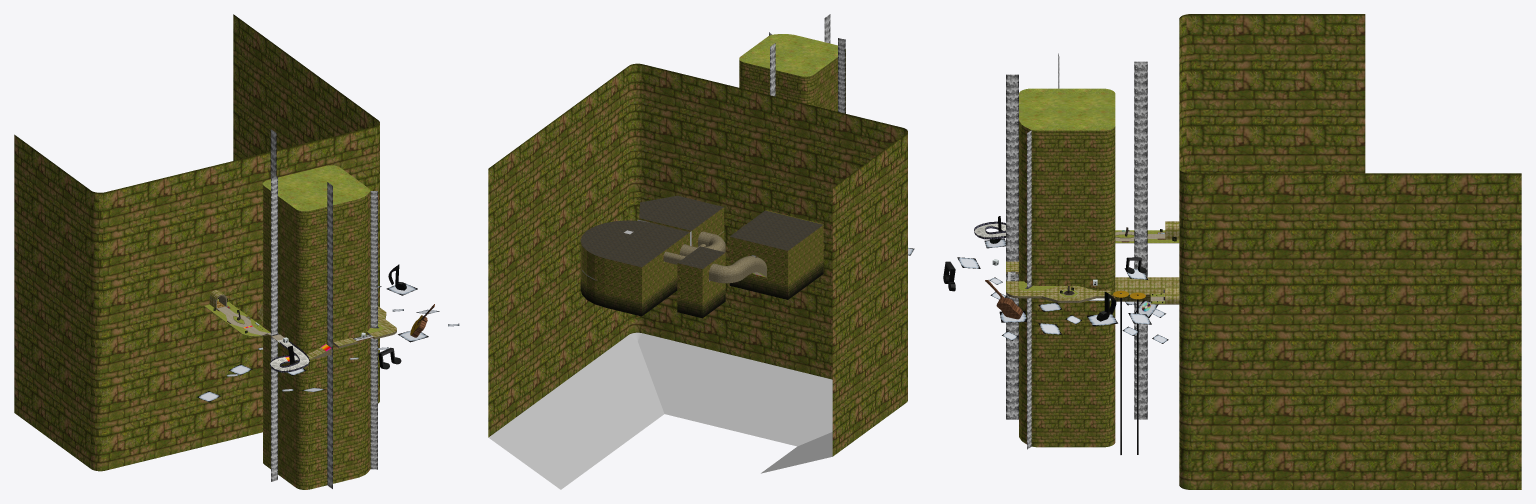
3 views of the same model, side by side, from view 1: azimuth 30°, elevation 25°; view 2: azimuth 150°, elevation 25°; view 3: azimuth 270°, elevation 25° (orthographic). The views are drawn at different scales.
Parts seen in each view (by area): view 1: Melody-SKP--Temple, Melody-SKP--waterfall, Melody-SKP--grass, Melody-SKP--2d_cloud, Melody-SKP--SquareRoad, Melody-SKP--Musicnote; view 2: Melody-SKP--Temple, Melody-SKP--Default_Material, Melody-SKP--Pillar, Melody-SKP--wall-transition, Melody-SKP--grass, Melody-SKP--Stonewall, Melody-SKP--waterfall; view 3: Melody-SKP--Temple, Melody-SKP--waterfall, Melody-SKP--grass, Melody-SKP--SquareRoad, Melody-SKP--2d_cloud, Melody-SKP--Musicnote.
Boxes of the visible parts, bbox=[...] form: Melody-SKP--Temple: bbox=[14, 14, 379, 489]; Melody-SKP--waterfall: bbox=[270, 129, 377, 488]; Melody-SKP--grass: bbox=[204, 165, 383, 336]; Melody-SKP--2d_cloud: bbox=[197, 282, 459, 401]; Melody-SKP--SquareRoad: bbox=[209, 290, 396, 359]; Melody-SKP--Musicnote: bbox=[288, 264, 406, 369]; Melody-SKP--Temple: bbox=[488, 51, 907, 456]; Melody-SKP--Default_Material: bbox=[488, 219, 832, 489]; Melody-SKP--Pillar: bbox=[580, 195, 823, 269]; Melody-SKP--wall-transition: bbox=[580, 261, 823, 318]; Melody-SKP--grass: bbox=[739, 34, 845, 277]; Melody-SKP--Stonewall: bbox=[581, 231, 766, 283]; Melody-SKP--waterfall: bbox=[691, 14, 845, 264]; Melody-SKP--Temple: bbox=[1019, 14, 1521, 489]; Melody-SKP--waterfall: bbox=[1006, 53, 1147, 449]; Melody-SKP--grass: bbox=[1019, 88, 1179, 303]; Melody-SKP--SquareRoad: bbox=[1006, 221, 1179, 303]; Melody-SKP--2d_cloud: bbox=[957, 238, 1168, 343]; Melody-SKP--Musicnote: bbox=[943, 216, 1146, 454].
Bounding box in the file's own units: 100230 × 116048 × 152510.
Materials: 37 (36 with a texture image).
